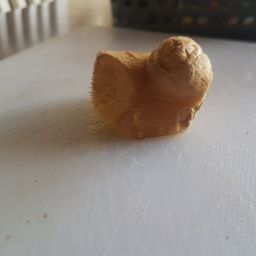Minced ginger: (80, 31, 217, 145)
